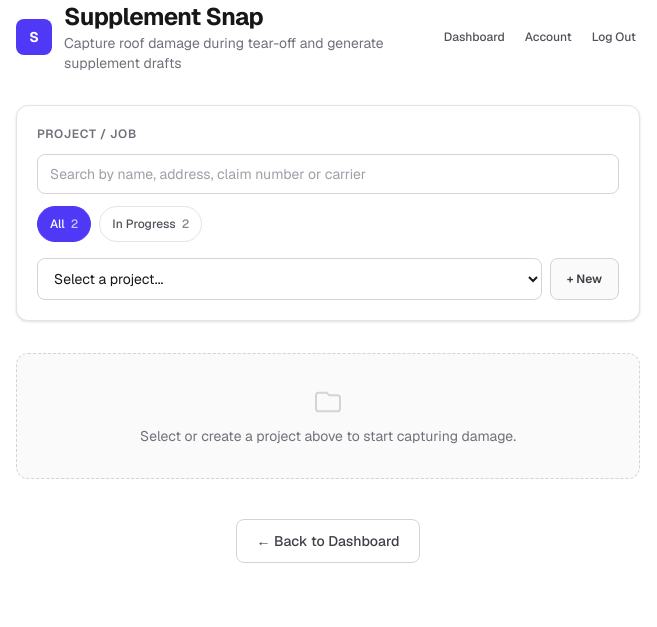
Test: dashboard smoke test (stand-in database) › tells the user when the microphone is blocked instead of failing silently
The image size is (657, 627).
Select "Garcia Roof (In Progress)" in the dropdown labelled "Project / Job" at [289, 279], box [37,258,542,300]
(page scrolled)
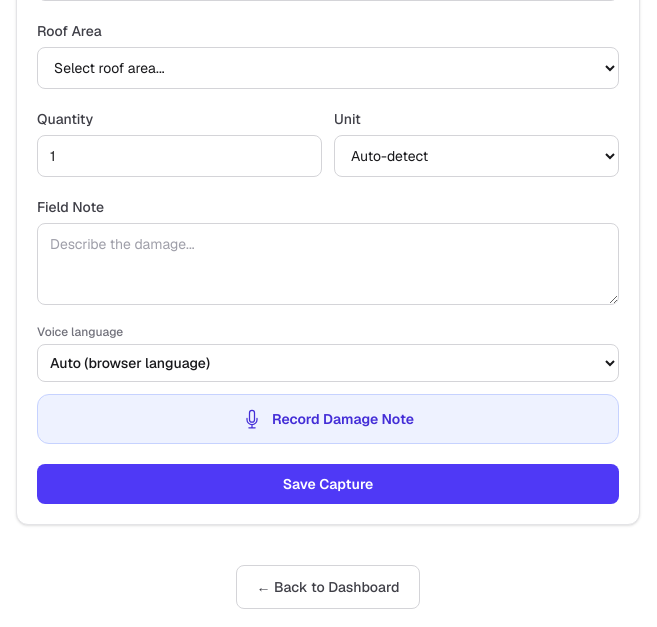
Click the button "Record Damage Note" at [328, 419], box [37,394,619,444]
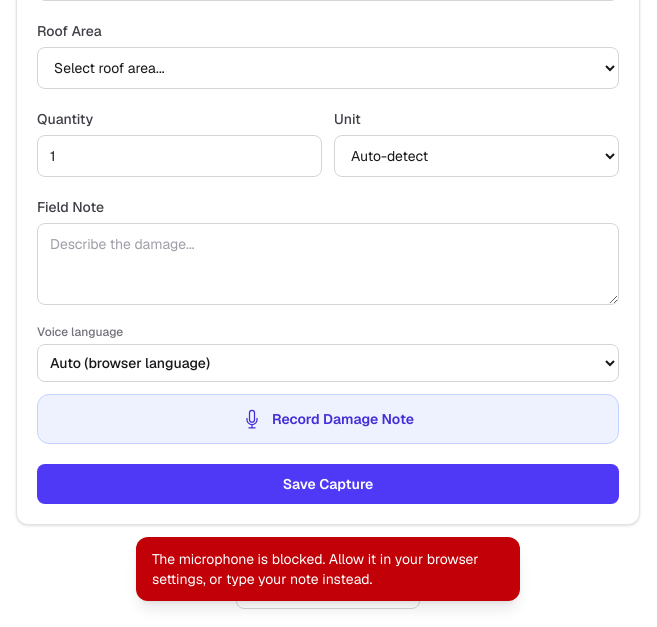
Expected: the text "microphone is blocked" is shown, [152,550,479,588]
